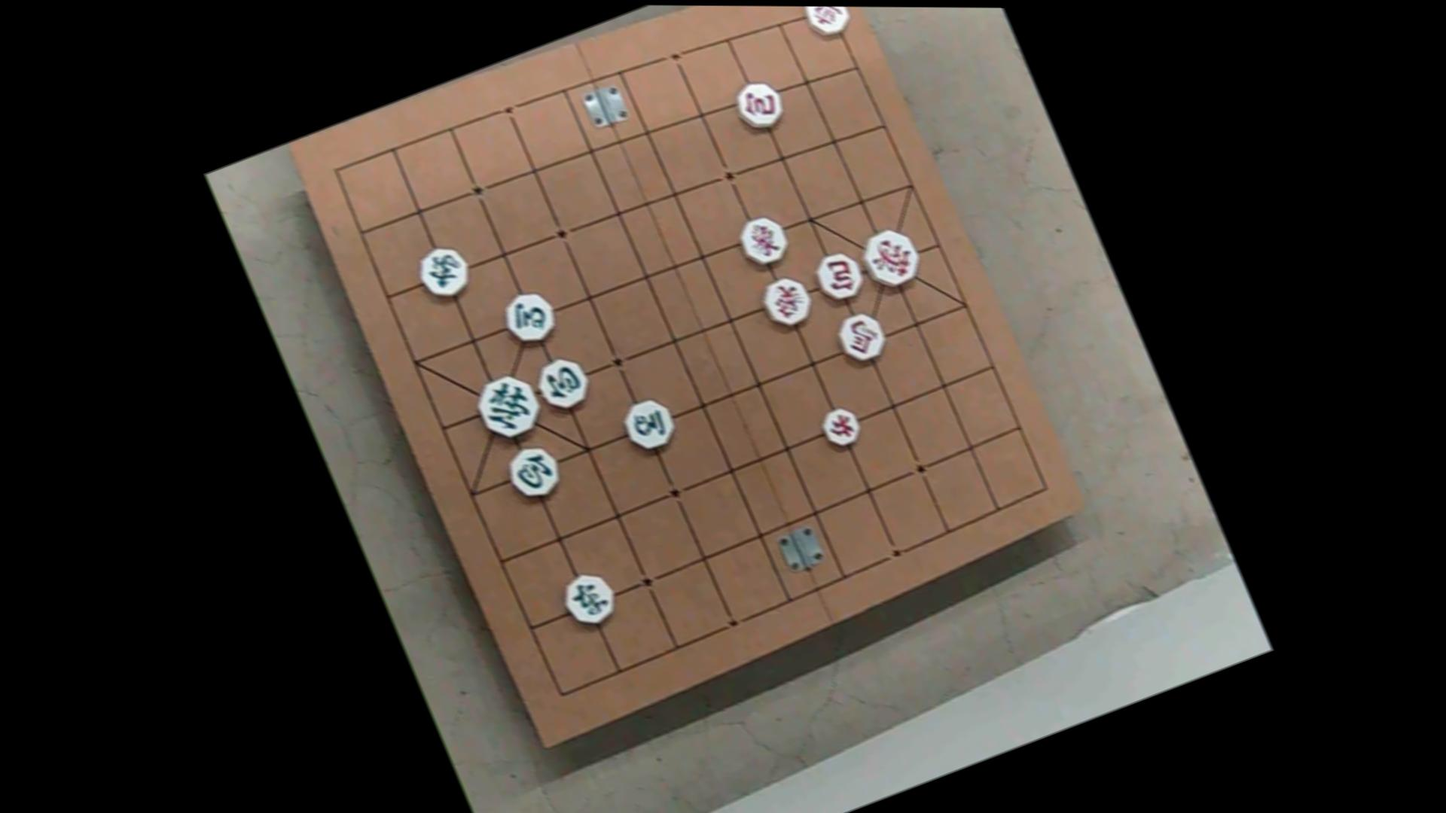cha_green: (556, 568, 620, 629)
cha_red: (798, 6, 853, 41)
jol_red: (816, 403, 864, 450)
ma_green: (497, 288, 562, 350), (618, 394, 680, 453)
ma_red: (832, 312, 891, 370)
po_green: (500, 443, 565, 505), (529, 354, 593, 415)
po_red: (809, 248, 868, 306), (731, 79, 789, 136)
sang_green: (412, 241, 477, 303)
sang_red: (756, 272, 817, 330), (734, 210, 794, 268)
wang_green: (469, 370, 548, 445)
wang_red: (856, 223, 927, 294)
